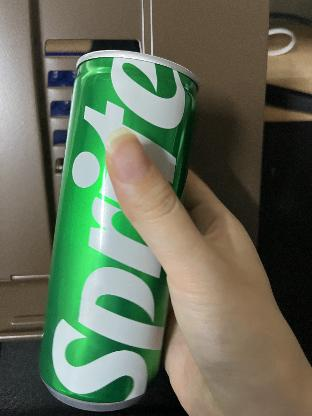Can: (41, 49, 202, 411)
